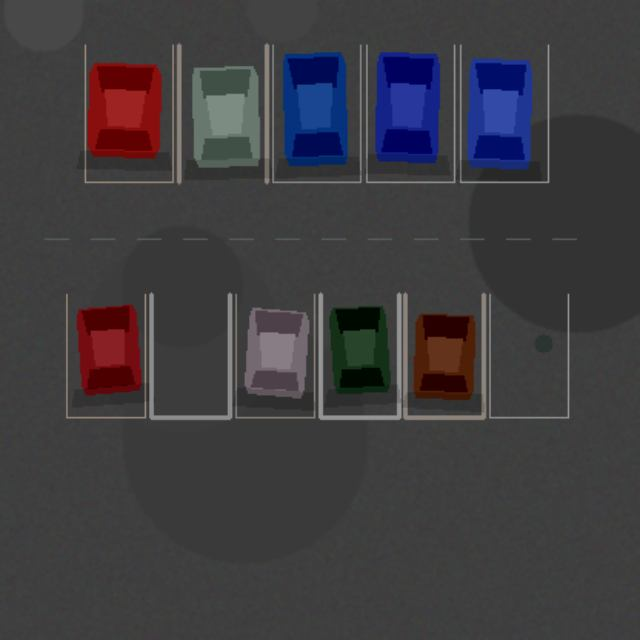space-empty: (489, 294, 568, 417), (151, 294, 229, 417)
space-occupied: (178, 45, 266, 182), (272, 45, 360, 182), (366, 45, 454, 182), (460, 45, 548, 182), (85, 45, 172, 182), (66, 294, 145, 417), (235, 294, 314, 417), (320, 294, 398, 417), (405, 294, 483, 417)
